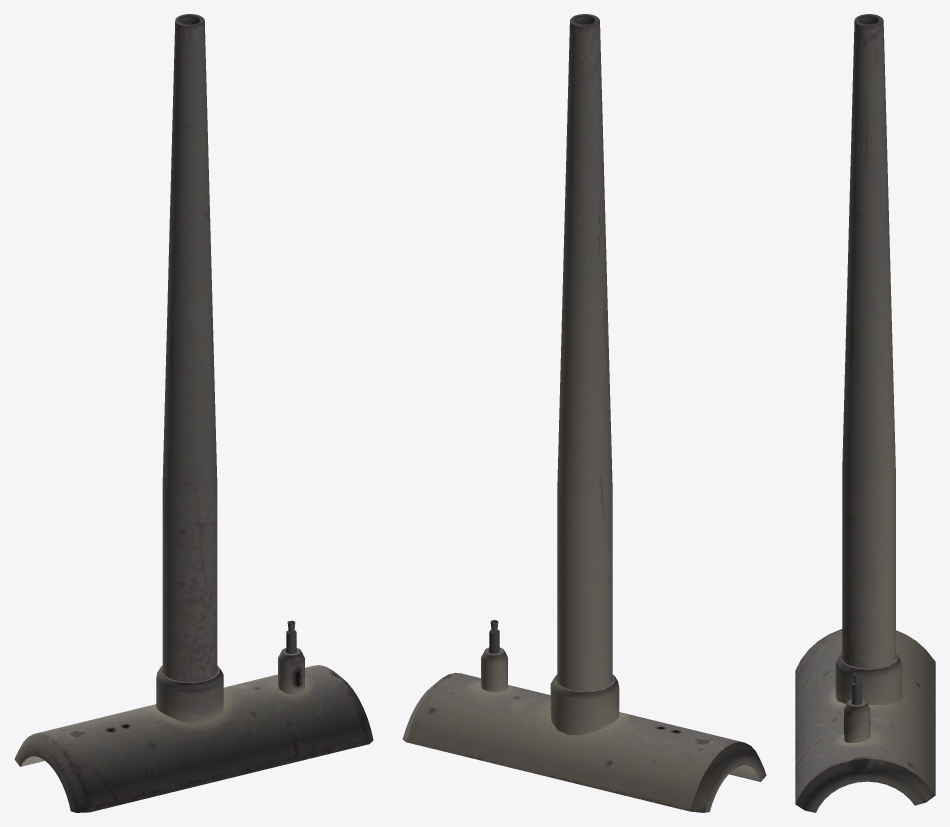
Rendered from Gun_03.glb.
The picture shows the model from 3 angles, left to right: view 1: azimuth 30°, elevation 25°; view 2: azimuth 150°, elevation 25°; view 3: azimuth 270°, elevation 25°; orthographic projection. The views are drawn at different scales.
Parts seen in each view (by area): view 1: set_0_group_0; view 2: set_0_group_0; view 3: set_0_group_0.
Part boxes in pixels (x1,y1,x2,y2): set_0_group_0: (14,14,373,812); set_0_group_0: (402,14,766,812); set_0_group_0: (795,14,935,812).
Size of the model in its own units: 1.26 by 2.97 by 0.5237.
1 material, 1 textured.
